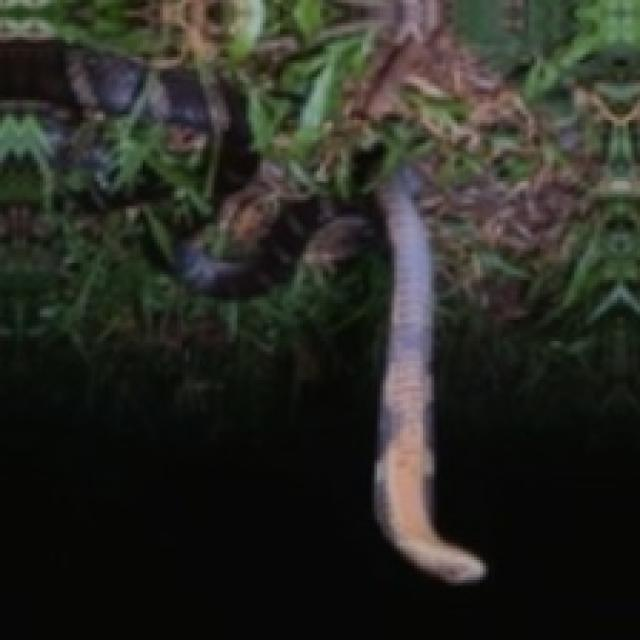king cobra: (374, 166, 483, 583)
